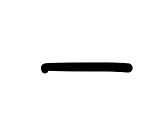minus: (41, 62, 133, 74)
